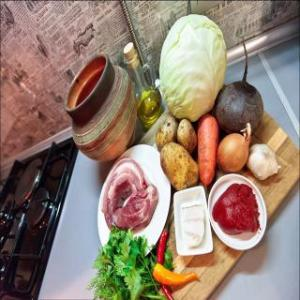beet: (213, 70, 263, 142)
cabbage: (158, 9, 229, 126)
carrot: (197, 112, 221, 188)
garlic: (246, 140, 280, 184)
onion: (218, 120, 254, 172)
potato: (160, 141, 200, 195), (154, 110, 178, 152), (176, 117, 198, 155)
